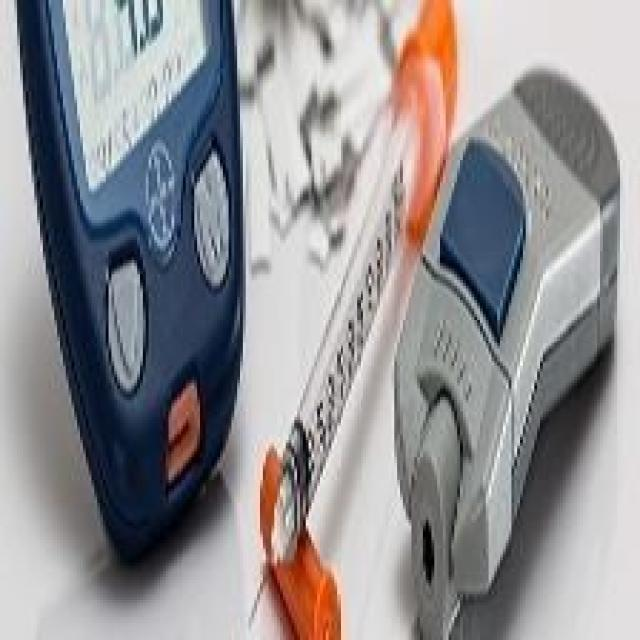syringe: (242, 49, 460, 628)
